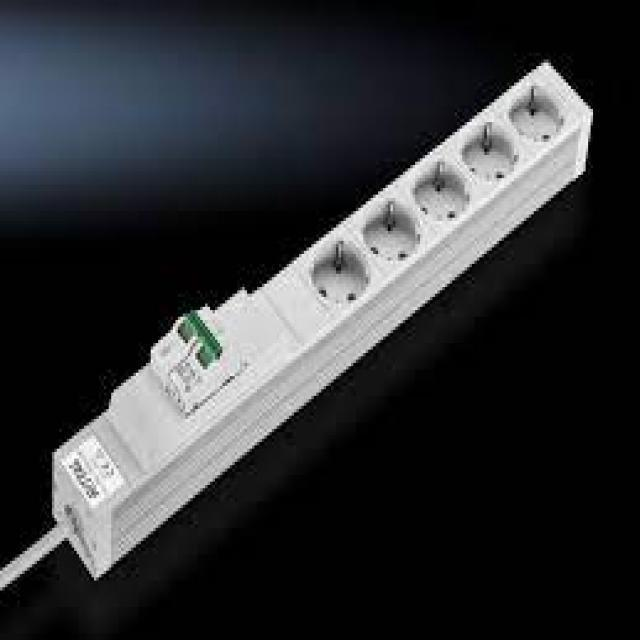typeb: (269, 31, 619, 413)
